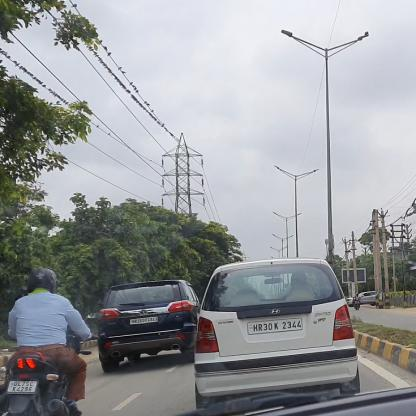car: (195, 257, 362, 411), (96, 279, 202, 374), (346, 290, 376, 306)
motorcycle: (5, 268, 92, 415), (352, 294, 360, 311)
